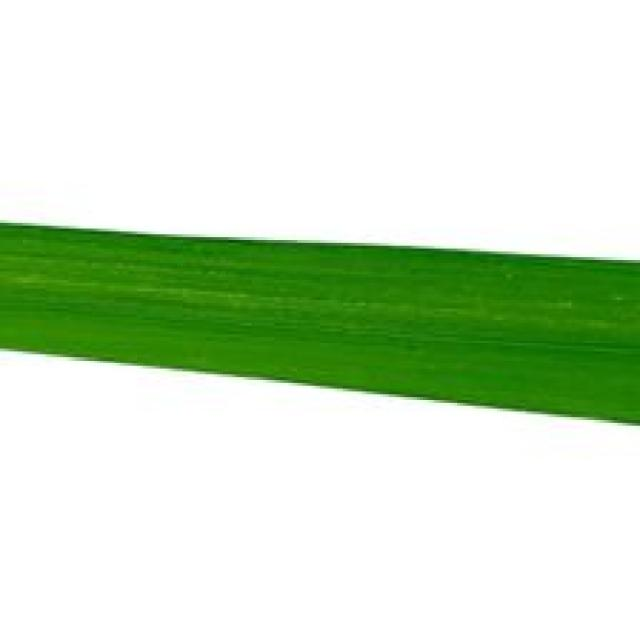Rice___Healthy_Rice_Plant: (0, 221, 637, 431)
